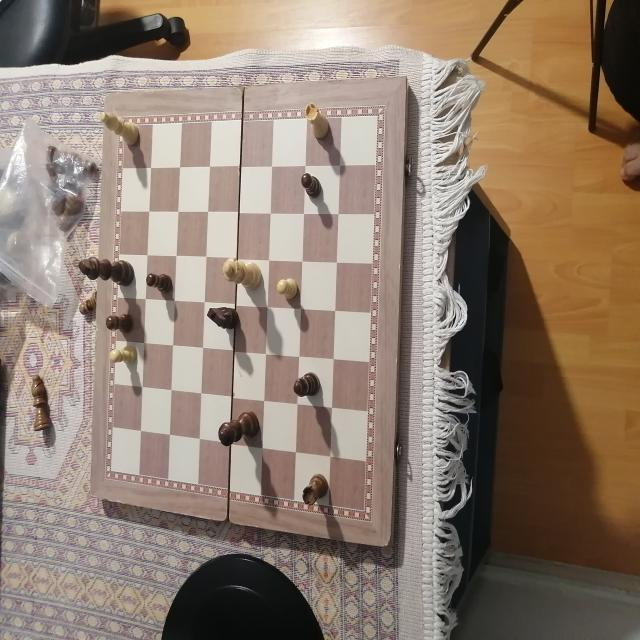corners: (384, 534, 405, 553), (82, 489, 100, 504), (100, 89, 116, 105), (392, 74, 410, 88)
